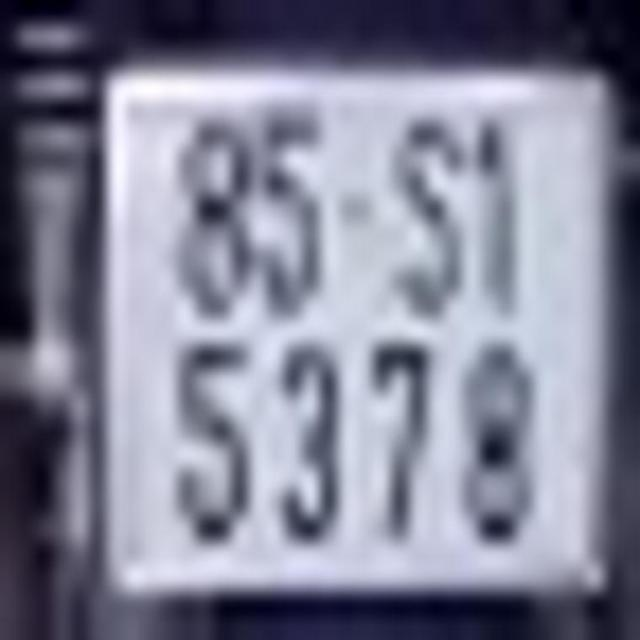1: (474, 122, 527, 320)
3: (275, 336, 346, 541)
5: (171, 330, 261, 543), (256, 115, 324, 319)
7: (360, 336, 428, 539)
8: (453, 339, 535, 552), (178, 114, 246, 317)
S: (391, 114, 465, 321)
